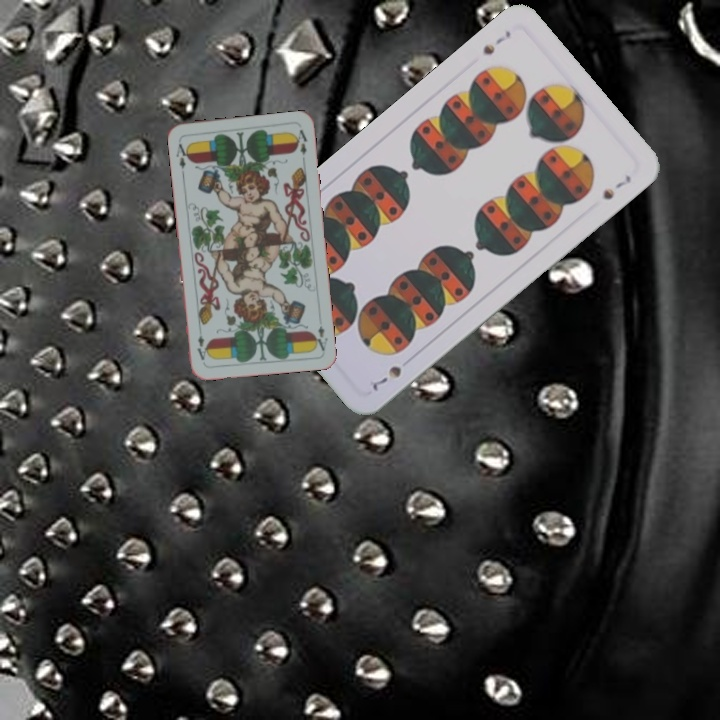EA: (172, 140, 192, 177), (310, 322, 330, 353)
S7: (368, 361, 404, 394), (479, 26, 514, 58)
